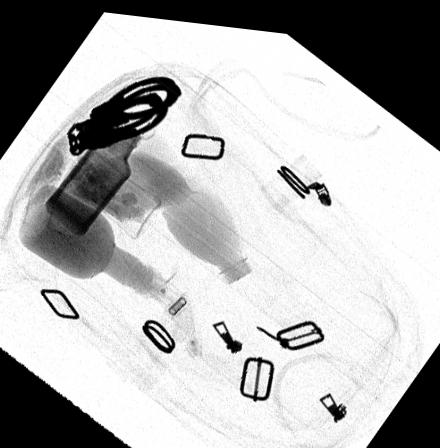HandCuffs: (64, 72, 182, 154)
